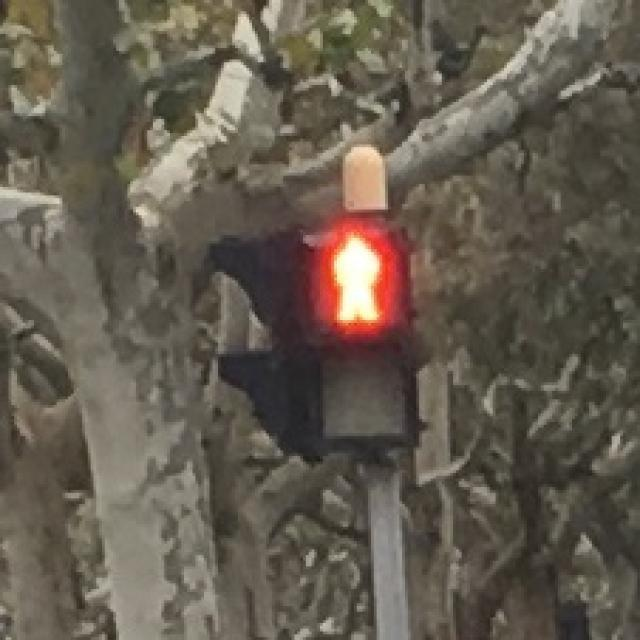red-crossing: (308, 224, 402, 332)
